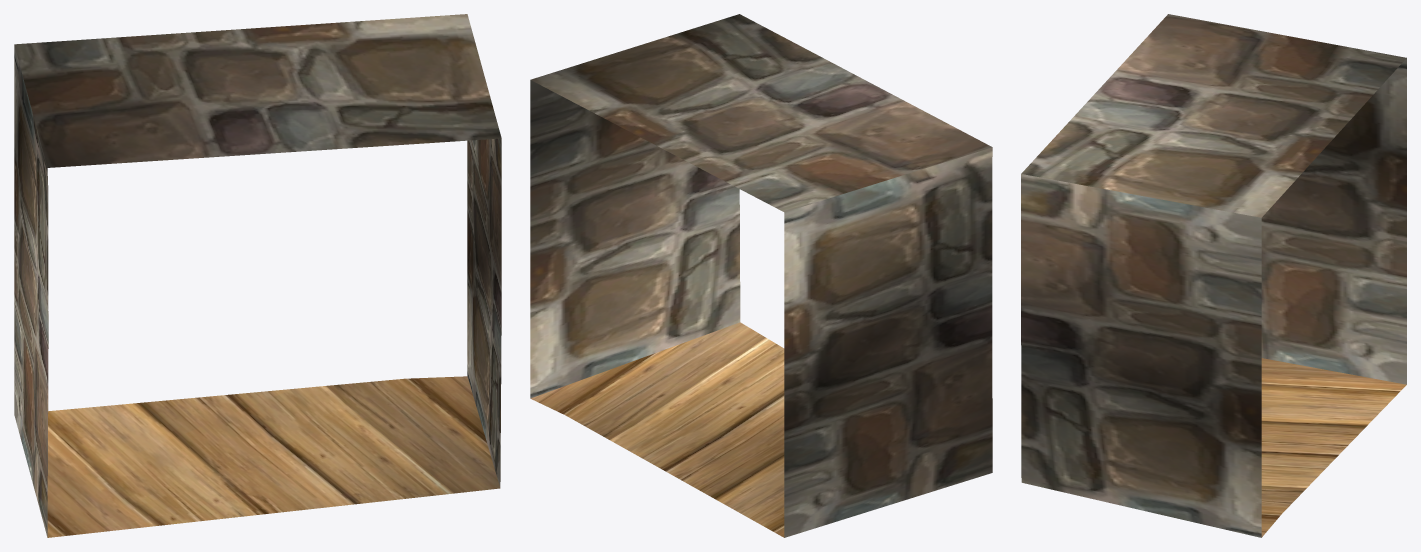
File: stormwind_241.fbx
3 views of the same model, side by side, from view 1: azimuth 30°, elevation 25°; view 2: azimuth 150°, elevation 25°; view 3: azimuth 270°, elevation 25° (orthographic). The views are drawn at different scales.
Visible parts, largest first — view 1: stormwind_241_38, stormwind_241_181; view 2: stormwind_241_38, stormwind_241_181; view 3: stormwind_241_38, stormwind_241_181.
Boxes of the visible parts, x1,y1,x2,y2 form: stormwind_241_38: (14, 14, 501, 537); stormwind_241_181: (47, 376, 500, 537); stormwind_241_38: (530, 14, 992, 537); stormwind_241_181: (530, 322, 784, 537); stormwind_241_38: (1021, 14, 1406, 537); stormwind_241_181: (1261, 358, 1406, 537).
Bounding box in the file's own units: 9.16 × 6.85 × 7.33.
